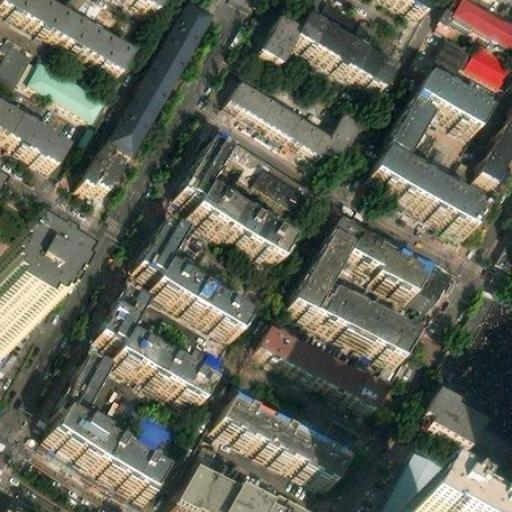building: (285, 233, 436, 368), (97, 5, 201, 157), (171, 145, 287, 262), (127, 220, 242, 336), (89, 299, 208, 408), (208, 400, 340, 495), (36, 403, 166, 499), (253, 324, 380, 414), (230, 73, 363, 155), (361, 156, 476, 239), (1, 0, 129, 70), (283, 23, 383, 95), (225, 135, 309, 206), (13, 47, 96, 110), (164, 469, 277, 512), (405, 80, 483, 141), (376, 446, 448, 512), (464, 108, 512, 195), (434, 31, 512, 84), (429, 378, 489, 439), (0, 114, 63, 170), (375, 104, 424, 167), (54, 359, 105, 418), (312, 413, 363, 468), (127, 408, 177, 462), (73, 143, 121, 198), (247, 23, 288, 70)
